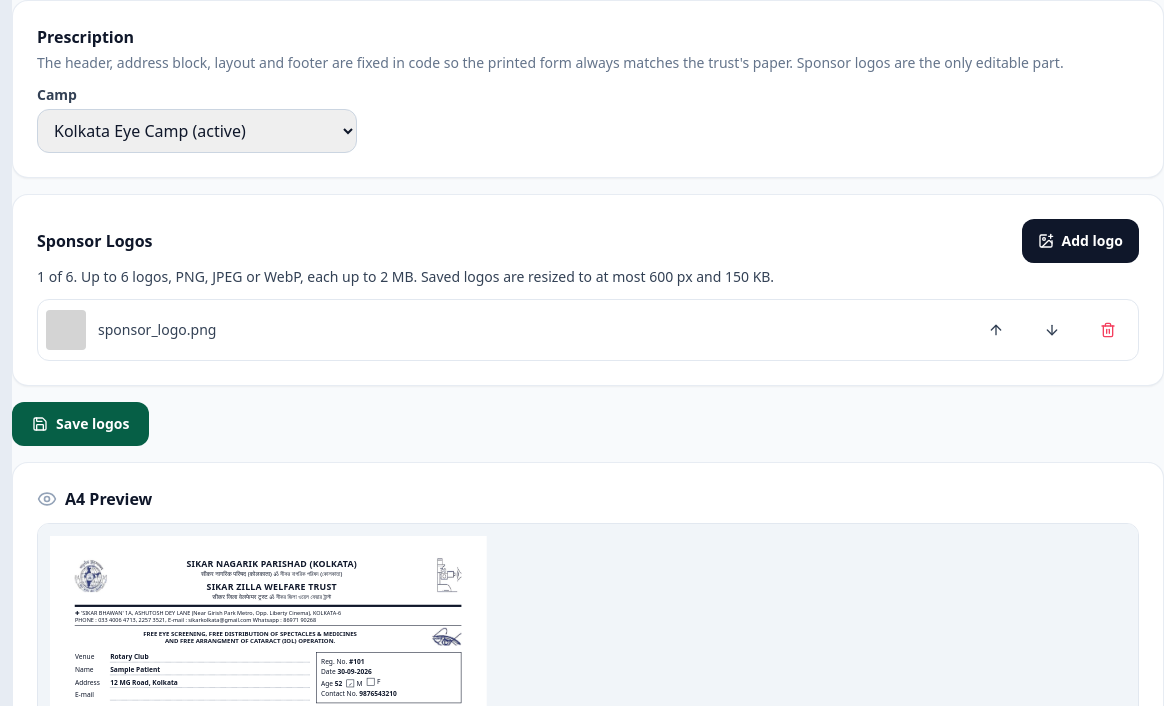
TemplateEditor › surfaces a save failure
Click the button with test id "tpl-save-logos-button" at [81, 424], box [12,402,150,446]
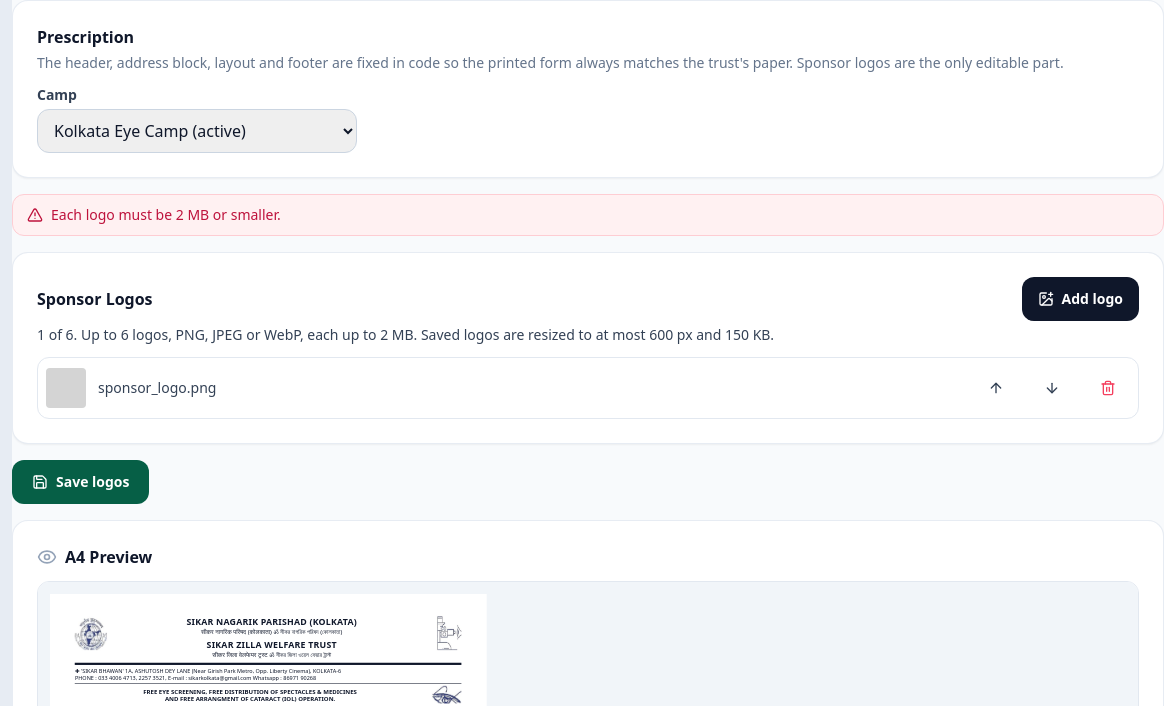
expect the text "Each logo must be 2 MB or smaller." is shown: met, box [51,205,281,225]
